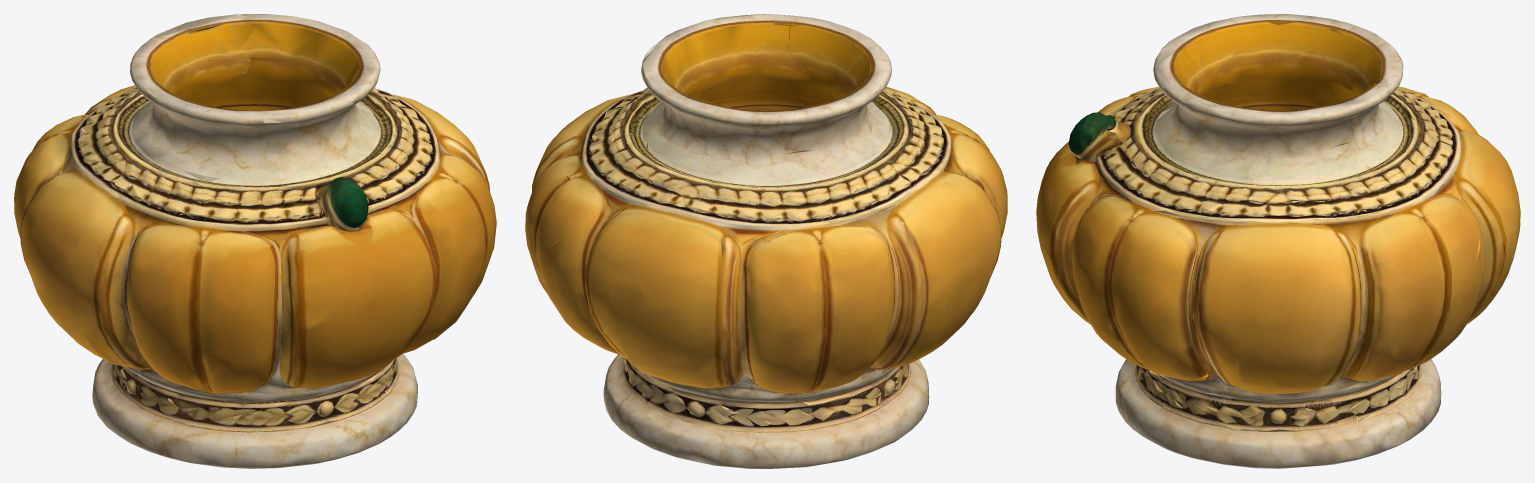
The model's file is amber-cadence-urn-qa-v2.glb.
3 views of the same model, side by side, from view 1: azimuth 30°, elevation 25°; view 2: azimuth 150°, elevation 25°; view 3: azimuth 270°, elevation 25° (orthographic).
Parts seen in each view (by area): view 1: breakable_l2_low_amber_urn_intact, breakable_l2_low_amber_urn; view 2: breakable_l2_low_amber_urn_intact, breakable_l2_low_amber_urn; view 3: breakable_l2_low_amber_urn_intact, breakable_l2_low_amber_urn.
Boxes of the visible parts, box(x1,y1,x2,y2) form: breakable_l2_low_amber_urn_intact: box(14, 14, 496, 468); breakable_l2_low_amber_urn: box(16, 14, 496, 467); breakable_l2_low_amber_urn_intact: box(525, 14, 1007, 468); breakable_l2_low_amber_urn: box(525, 14, 1005, 468); breakable_l2_low_amber_urn_intact: box(1036, 14, 1520, 468); breakable_l2_low_amber_urn: box(1036, 14, 1518, 465).
Size of what is drawn, in the model's own units: 0.9315 by 0.72 by 0.9315.
3 materials, 1 textured.
